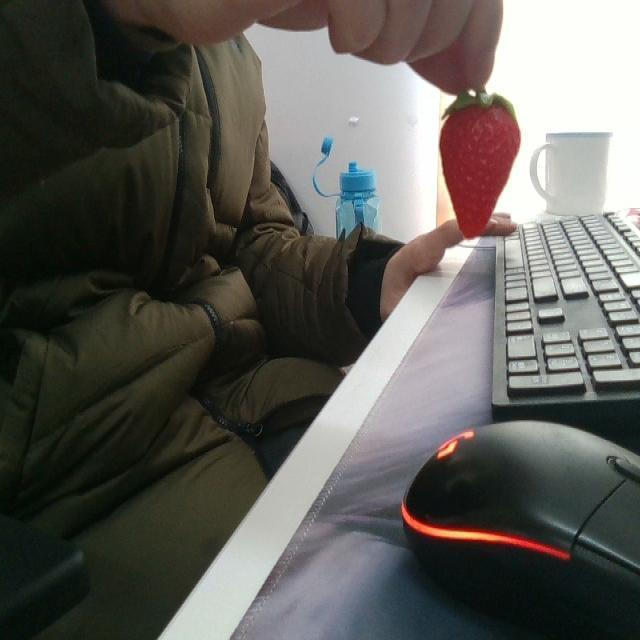ripe: (440, 91, 521, 242)
